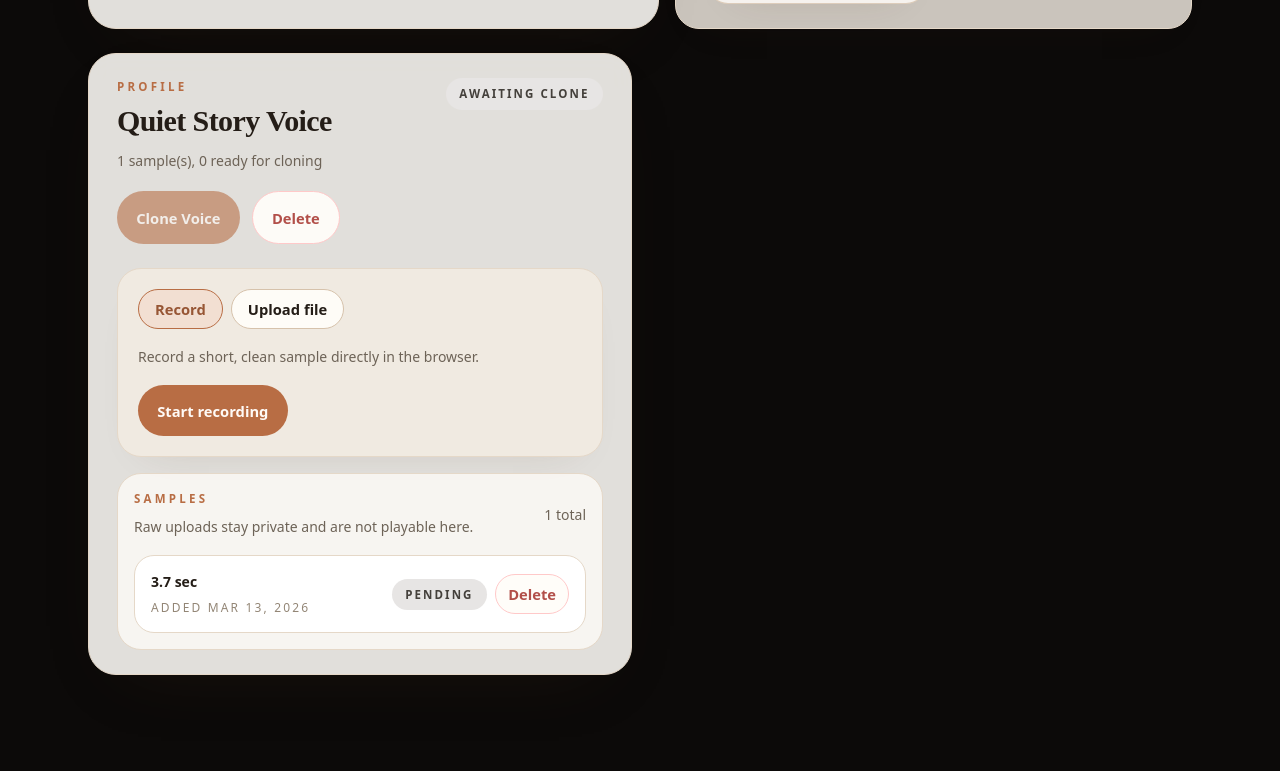
Test: VoiceProfilesView › deletes a sample after confirmation
(page scrolled)
Step 1. Click the button "Delete" next to "pending" → (532, 594), box [495,574,569,614]
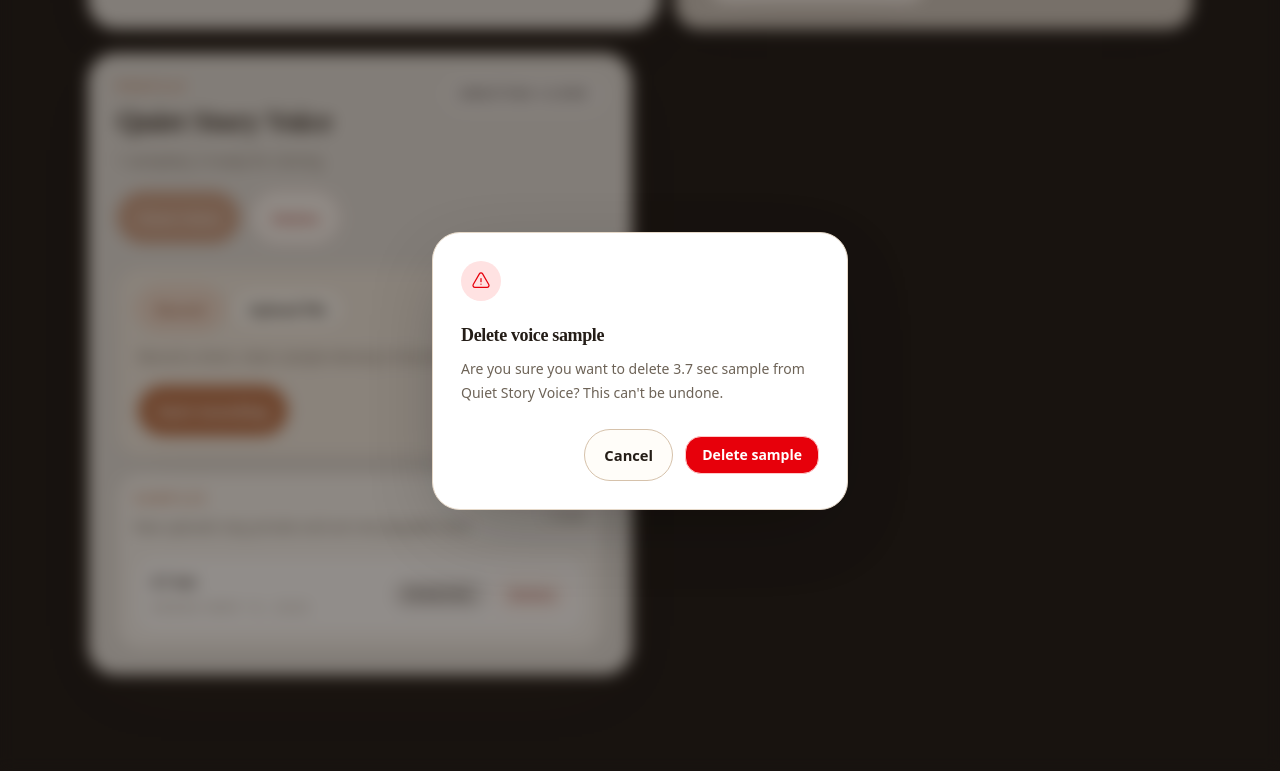
Expected: the button with test id "confirm-modal-confirm" reads "Delete sample"
Step 2. Click the button with test id "confirm-modal-confirm" → (752, 455), box [685,436,819,474]
(page scrolled)
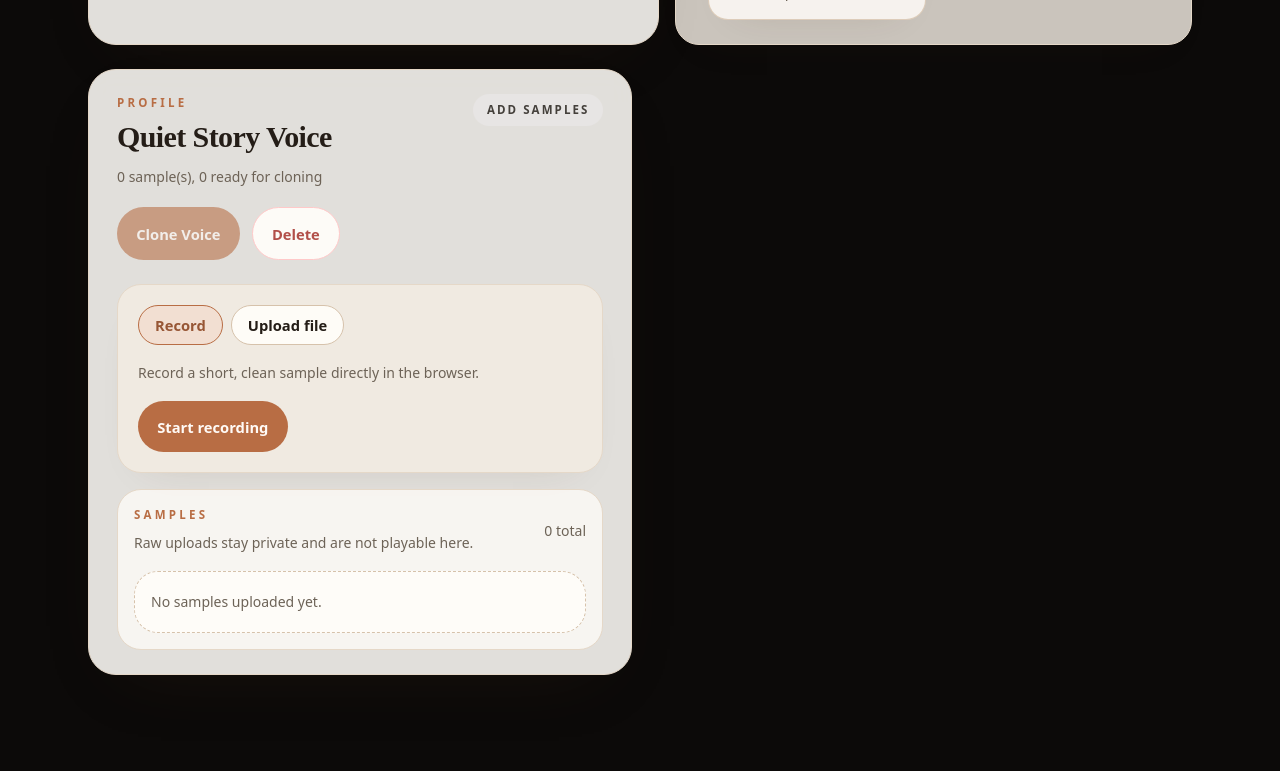
Expected: the text "3.7 sec" is gone
